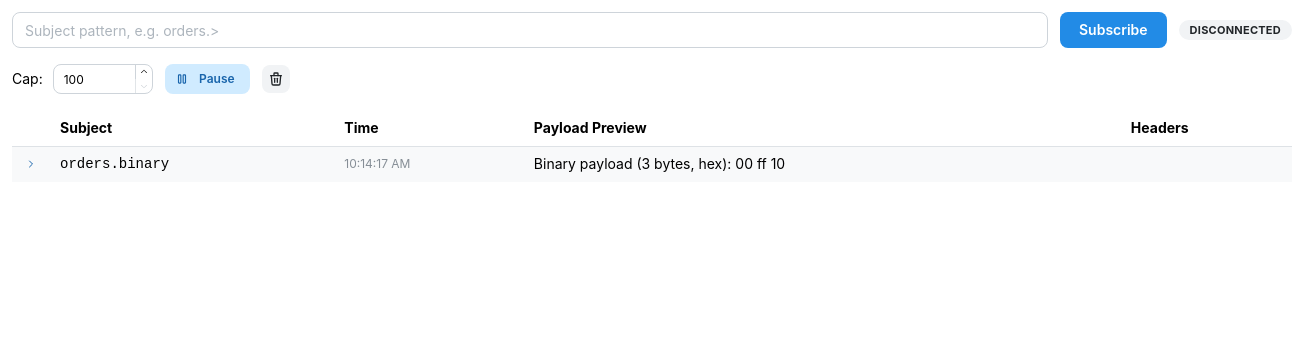
Scenario: renders binary payload preview as labelled hex
Expected: the text "Binary payload (3 bytes, hex): 00 ff 10" is shown, [534,155,785,172]
What coordinates should you click on to do the following:
click the text "orders.binary"
I would click on:
 (115, 164)
Its box is [60,156,169,172].
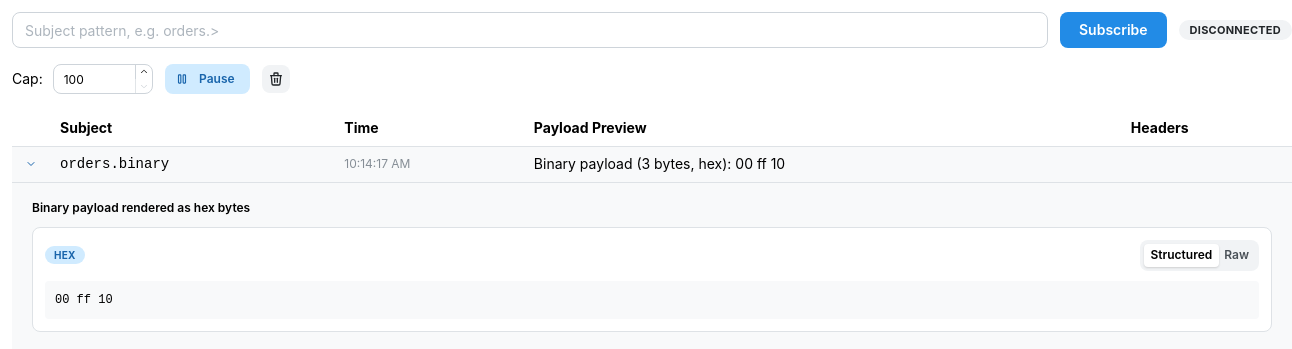
Now the text "Binary payload rendered as hex bytes" is shown, box [32,200,250,215]
